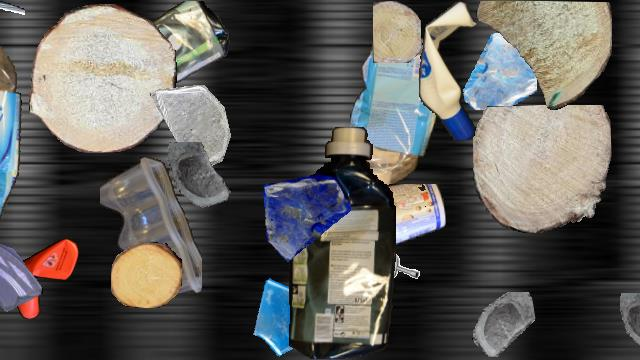glass: (257, 172, 351, 266), (249, 269, 339, 359), (150, 85, 234, 169), (163, 142, 241, 220), (460, 33, 536, 109), (471, 292, 535, 356), (0, 226, 42, 320), (615, 293, 640, 359)
metal: (378, 252, 426, 300), (0, 1, 24, 63)
plastic: (288, 127, 396, 359), (75, 1, 231, 103), (350, 35, 436, 209), (100, 157, 202, 299), (419, 1, 483, 139), (346, 184, 446, 254), (0, 1, 24, 251), (5, 239, 79, 319), (0, 92, 11, 252)
wood: (28, 4, 176, 152), (473, 105, 611, 233), (476, 1, 612, 109), (111, 242, 181, 308), (373, 1, 421, 63)
